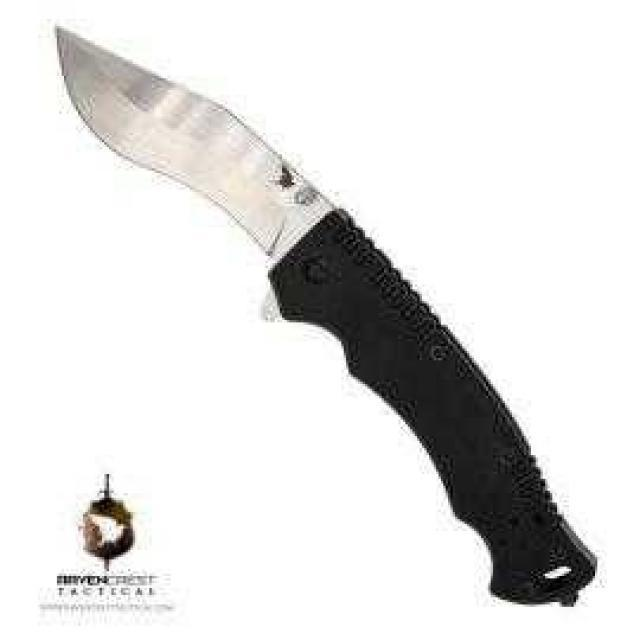knife: (38, 7, 609, 618)
